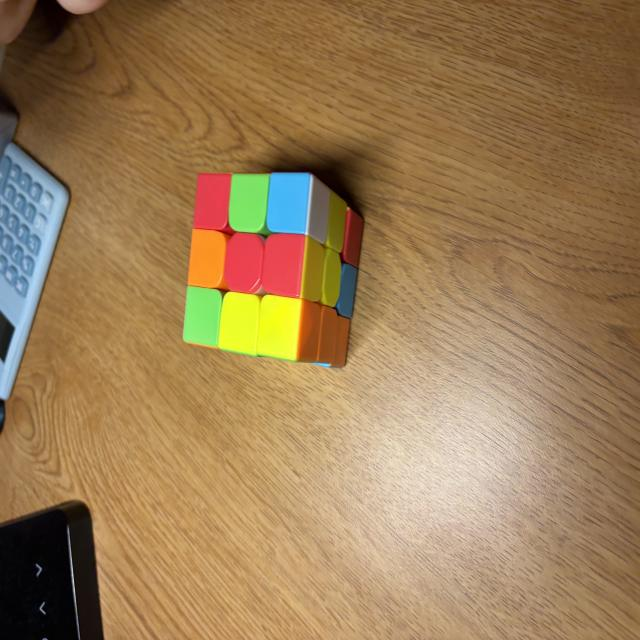Rubiks Cube: (182, 172, 362, 368)
